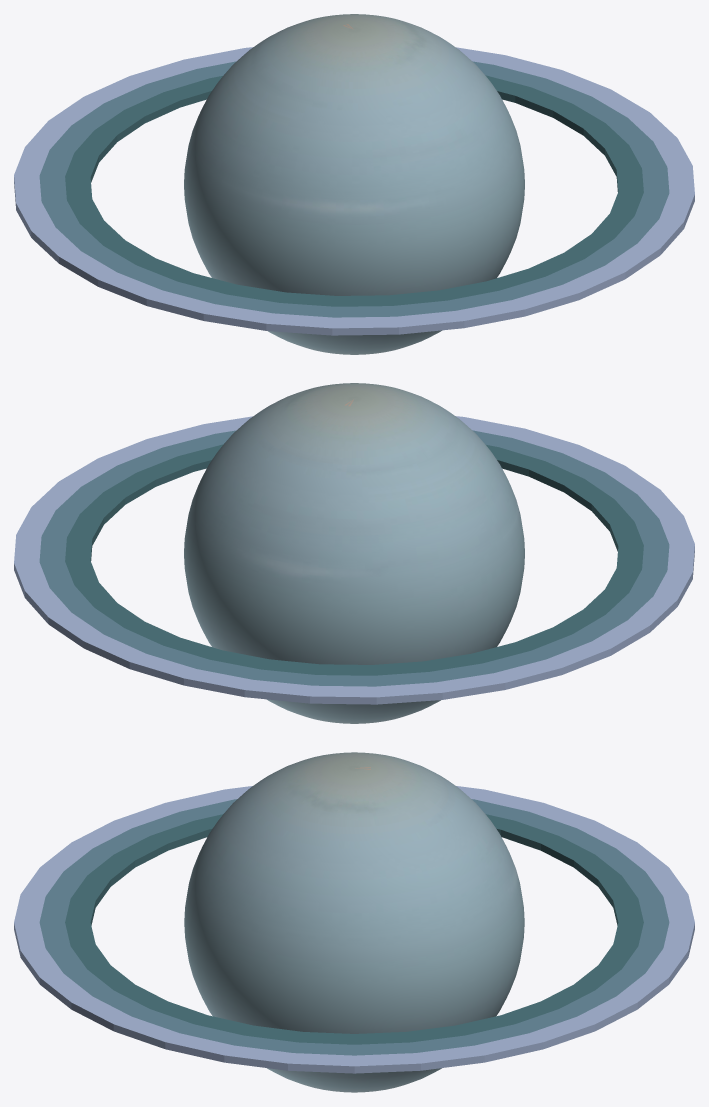
File: uranus.glb
The picture shows the model from 3 angles, top to bottom: view 1: azimuth 30°, elevation 25°; view 2: azimuth 150°, elevation 25°; view 3: azimuth 270°, elevation 25°; orthographic projection.
Parts seen in each view (by area): view 1: Sphere; view 2: Sphere; view 3: Sphere.
Part boxes in pixels (x1,y1,x2,y2): Sphere: (14,14,694,354); Sphere: (14,383,694,723); Sphere: (14,752,694,1092).
Bounding box in the file's own units: 4 × 2 × 4.
5 materials, 2 textured.
